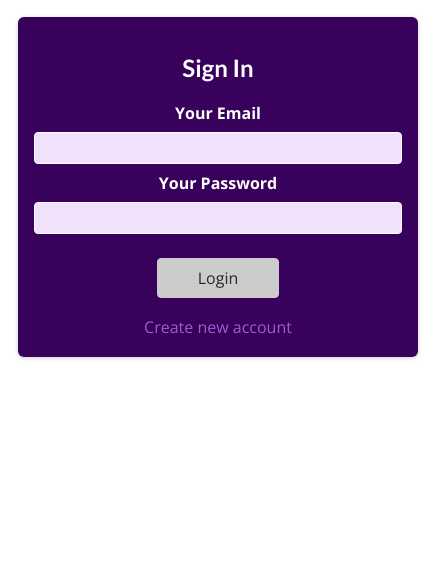
Test: Login page › Sign Up form › renders password error if password lenght is not equal or greater than 5 chars
This screenshot has width=437, height=587.
Click the button "Create new account": {"x": 218, "y": 327} [120,314,316,341]
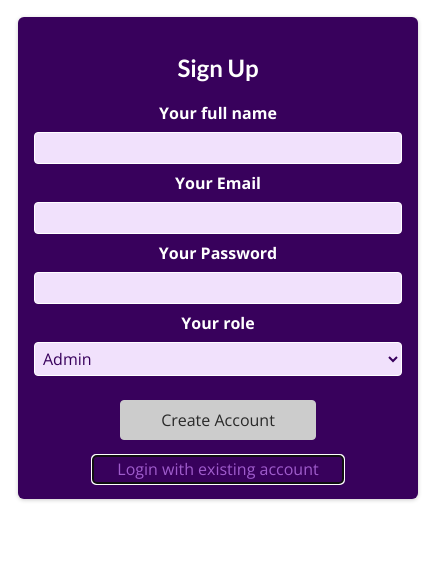
In the password field named "password-input": {"x": 218, "y": 288} [34,272,402,304], type "1234"
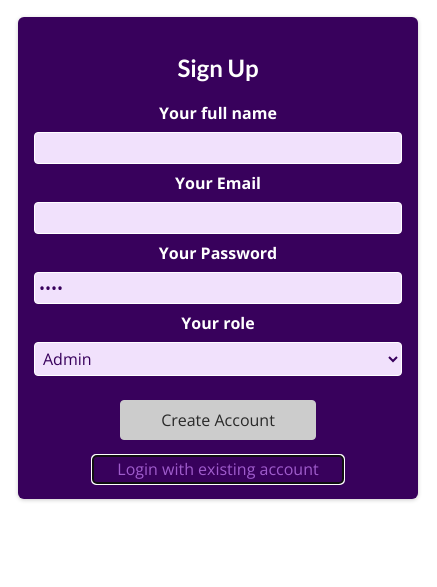
Leave the password field named "password-input", box [34,272,402,304]
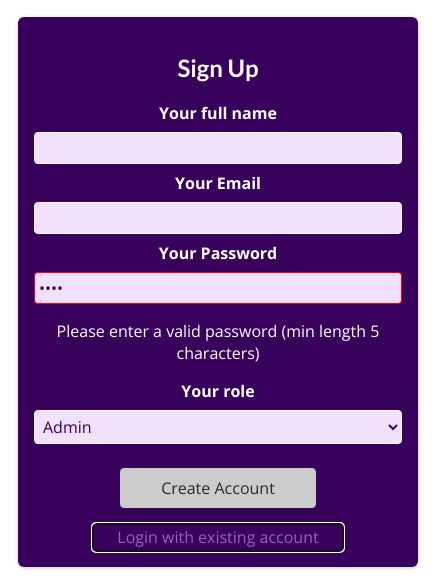
Now the text "Please enter a valid password (min length 5 characters)" is shown, box [34,320,402,364]
